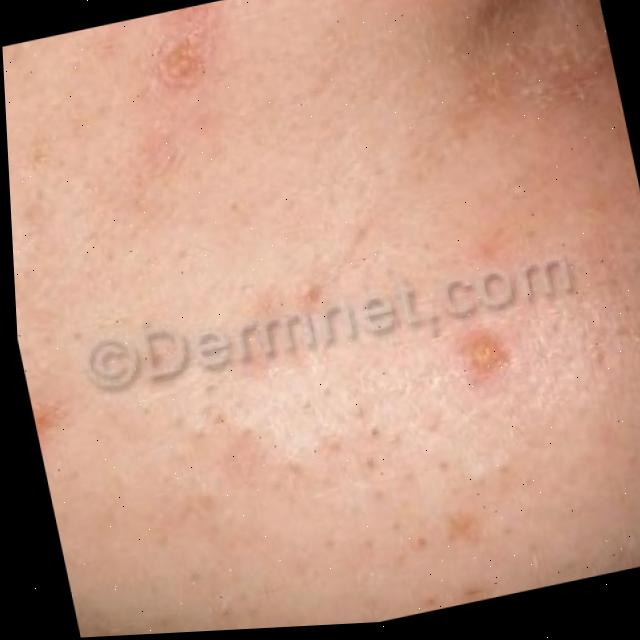Acne: (430, 500, 495, 592), (155, 35, 213, 108), (30, 399, 67, 450), (470, 329, 500, 373)
